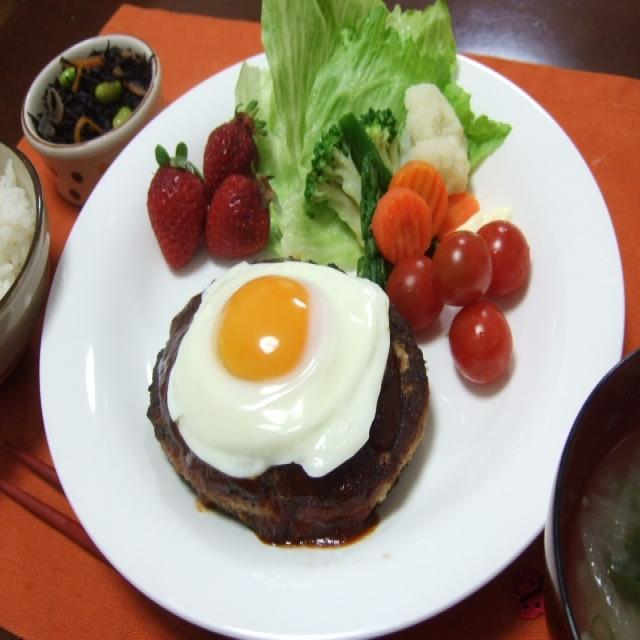Egg: (170, 256, 383, 478)
Green Salad: (249, 3, 465, 230)
Strawberry: (144, 113, 272, 262)
